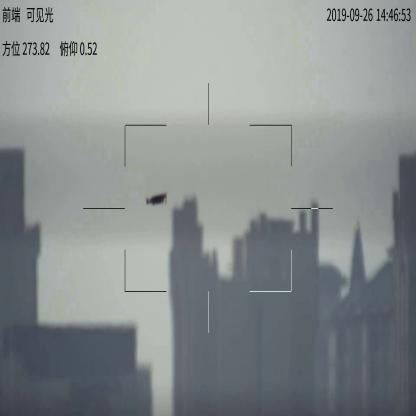uav: (142, 190, 172, 210)
